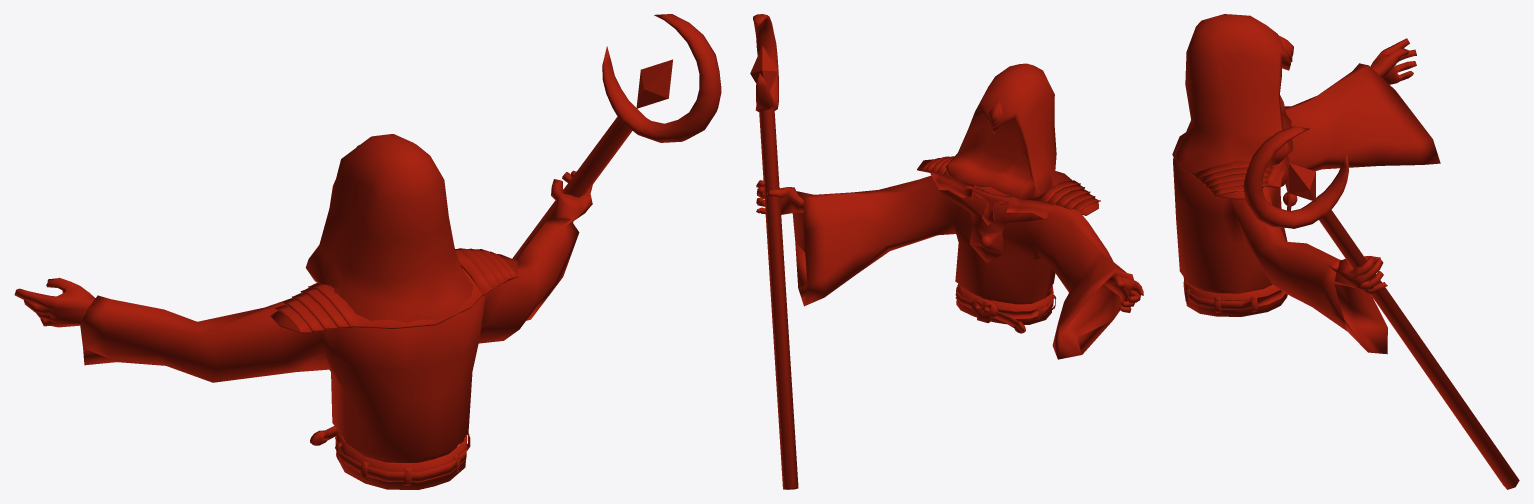
Rendered from top_000051.obj.
3 renders of one model, left to right at view 1: azimuth 30°, elevation 25°; view 2: azimuth 150°, elevation 25°; view 3: azimuth 270°, elevation 25°, orthographic. The views are drawn at different scales.
Parts seen in each view (by area): view 1: LowPoly_Warlock.000_Plane.005; view 2: LowPoly_Warlock.000_Plane.005; view 3: LowPoly_Warlock.000_Plane.005.
Part boxes in pixels (bbox=[...]): LowPoly_Warlock.000_Plane.005: bbox=[14, 14, 721, 489]; LowPoly_Warlock.000_Plane.005: bbox=[750, 14, 1143, 489]; LowPoly_Warlock.000_Plane.005: bbox=[1172, 14, 1519, 489].
Bounding box in the file's own units: 2.08 × 1.64 × 1.2.
